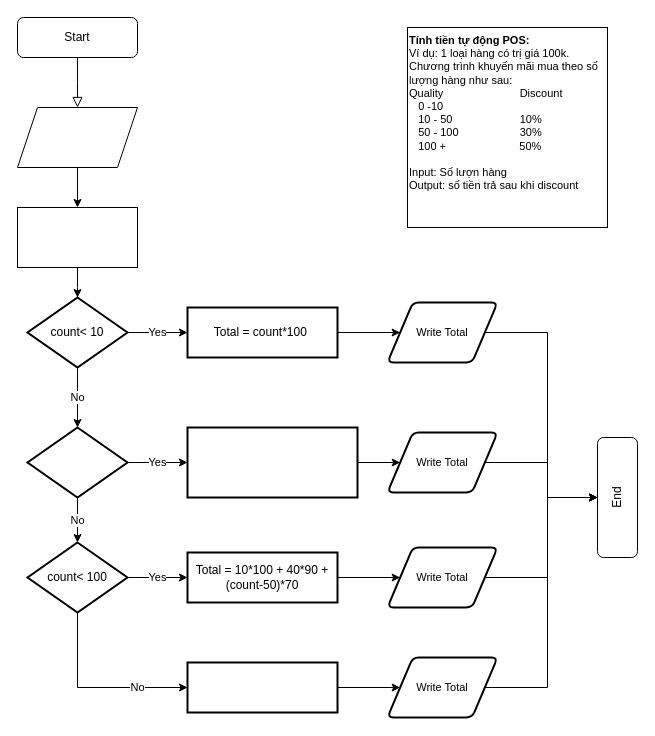
Image size: 655x736. Some labels were removed from this diagram. Each missing label, with the centre of its shape:
"count< 50" belongs at (77,462).
"Read count" belongs at (77,137).
"Total = 0" belongs at (77,237).
"Total = 10*100 + (count-10)*90 = count*100 - {(count-10)*10}" belongs at (272,462).
"Total = 10*100 + 40*90 + 50*70 + (count-100)*50" belongs at (262,687).
